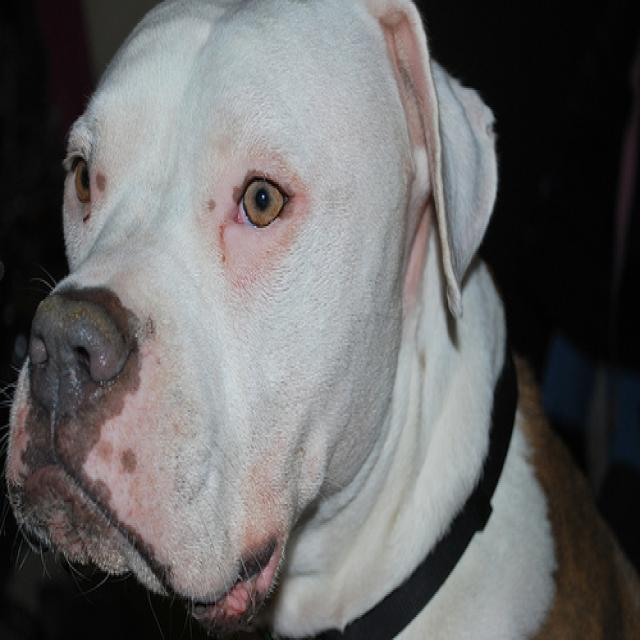dog-american_bulldog: (1, 2, 637, 636)
